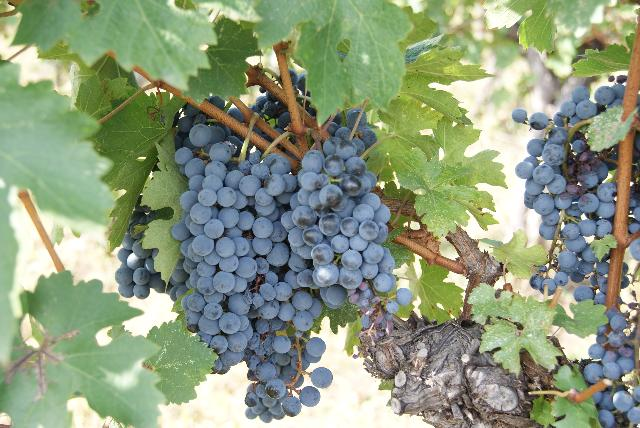grapes: (171, 114, 296, 414), (511, 80, 625, 304), (292, 139, 412, 325), (582, 310, 635, 385), (592, 385, 640, 428)
